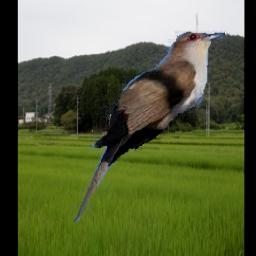Cuckoo: (74, 31, 229, 223)
